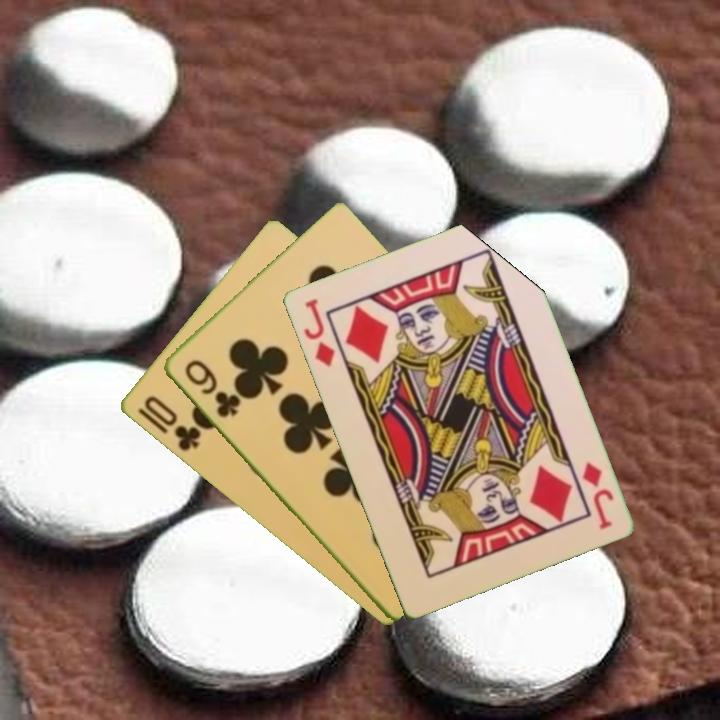10c: (140, 392, 204, 455)
9c: (180, 356, 242, 421)
Jd: (299, 295, 338, 370), (578, 458, 616, 532)
